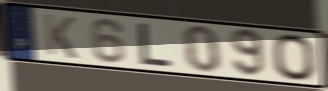0: (177, 23, 225, 75)
6: (89, 17, 126, 64)
9: (229, 27, 268, 80)
K: (42, 12, 80, 61)
L: (137, 21, 174, 69)
O: (270, 32, 319, 83)
